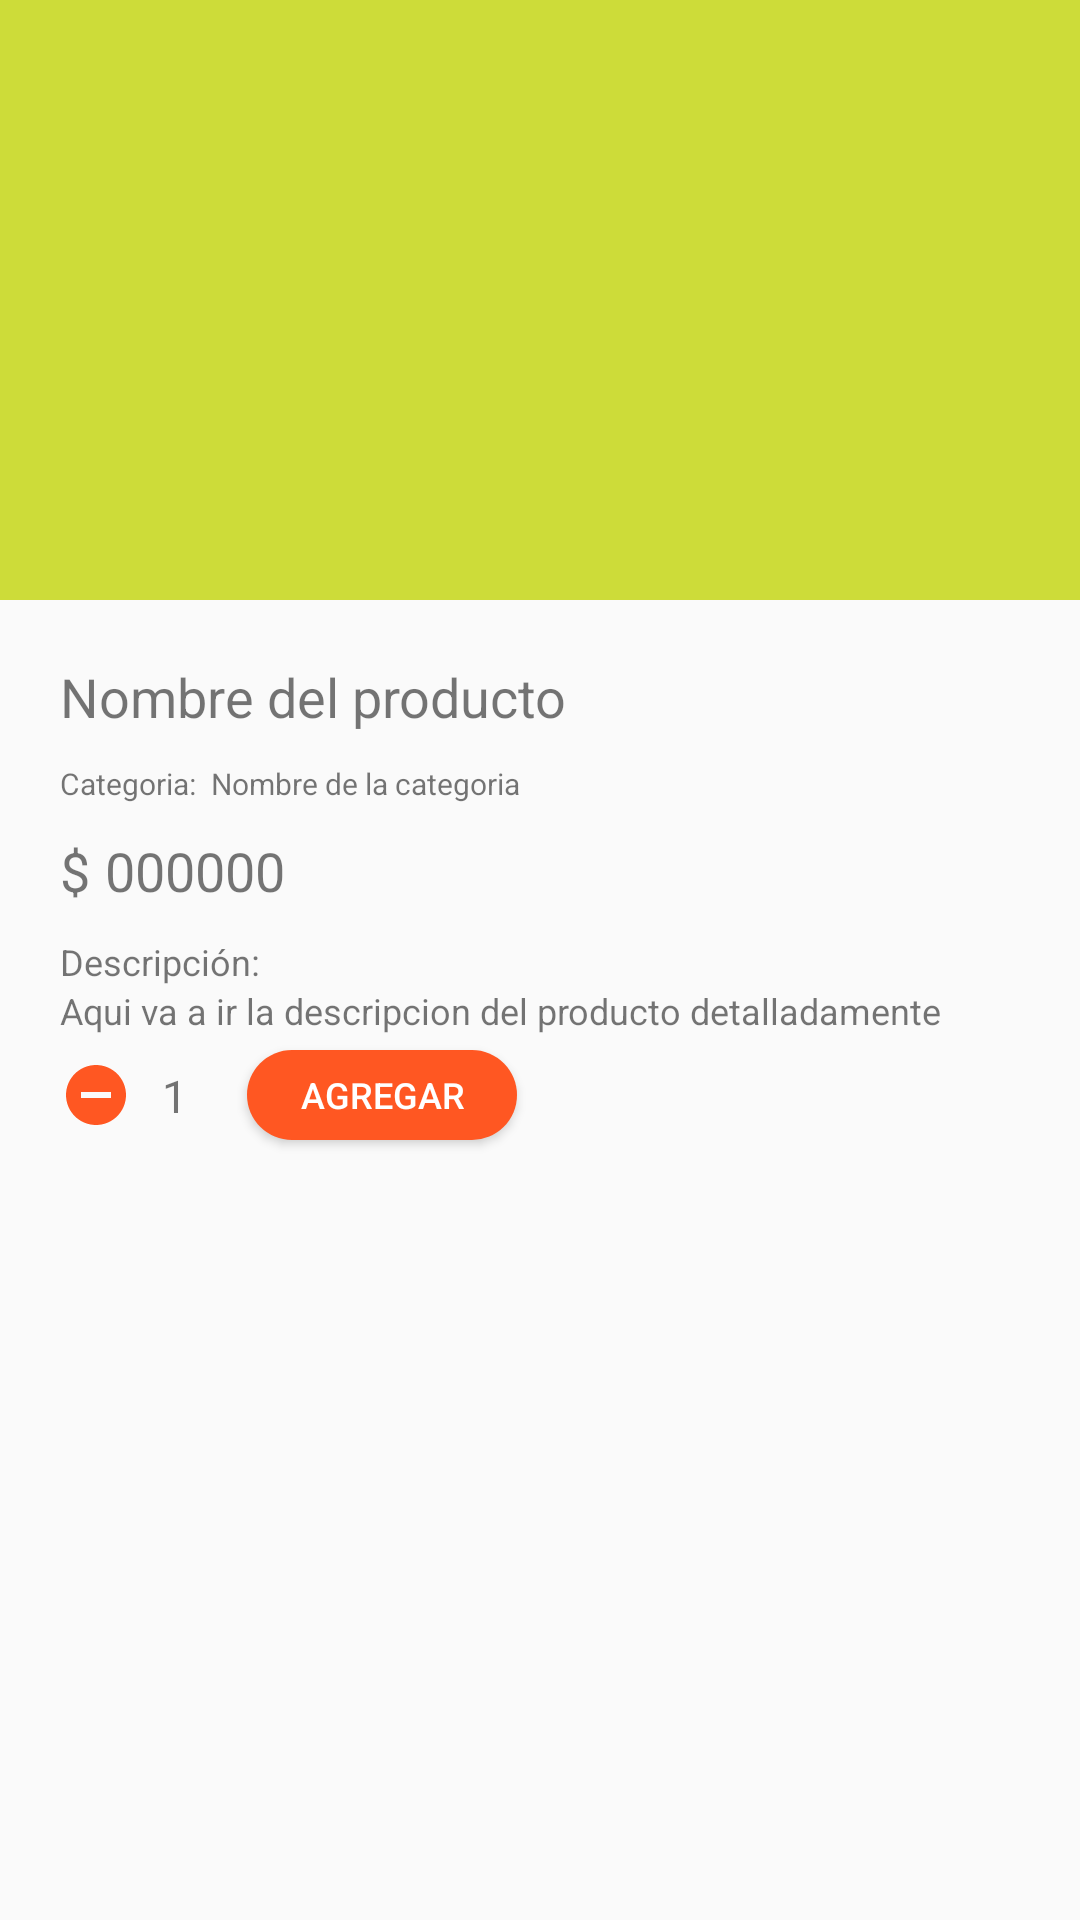

Point at icon controls on the screen. Image size 1080x1920, points as (x,y).
subtract: (96,1095)
